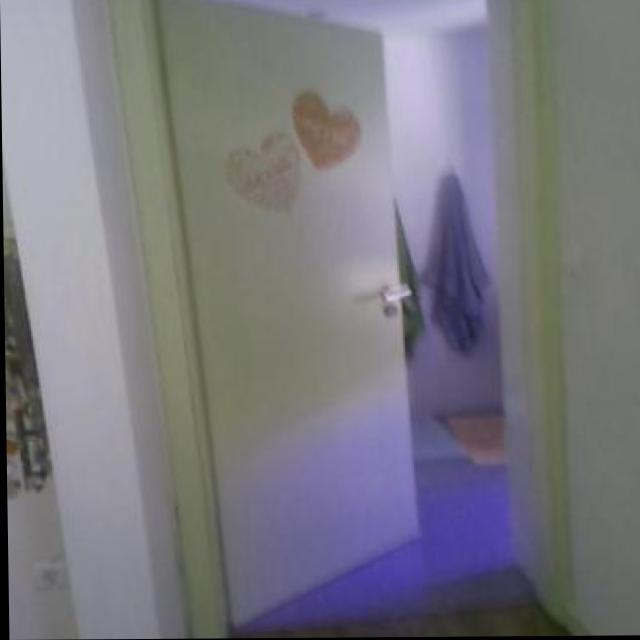door_handle: (369, 278, 423, 313)
